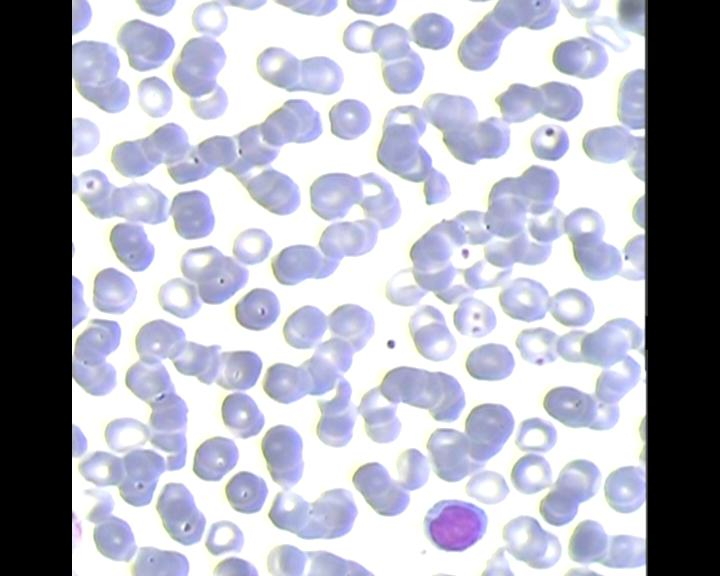lymp: (420, 496, 490, 557)
